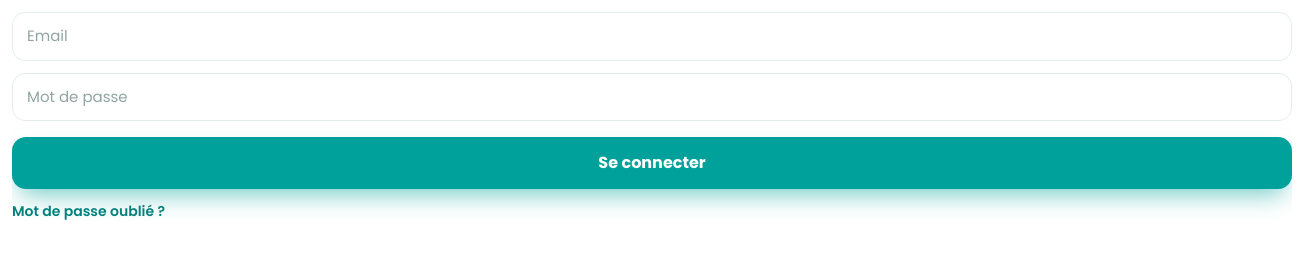
Test: LoginForm › 401 → « Email ou mot de passe incorrect. »
The image size is (1304, 269).
Type "a@b.c" into the field with placeholder "Email" at (652, 36), box [12,12,1292,60]
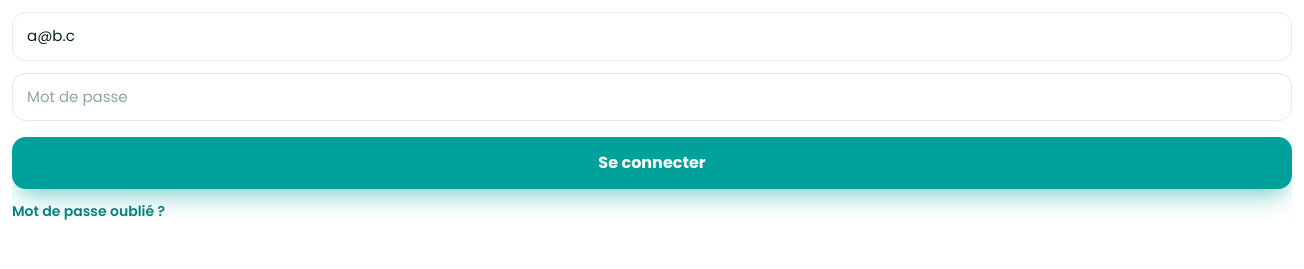
Type "Password1" into the password field with placeholder "Mot de passe" at (652, 97), box [12,72,1292,121]
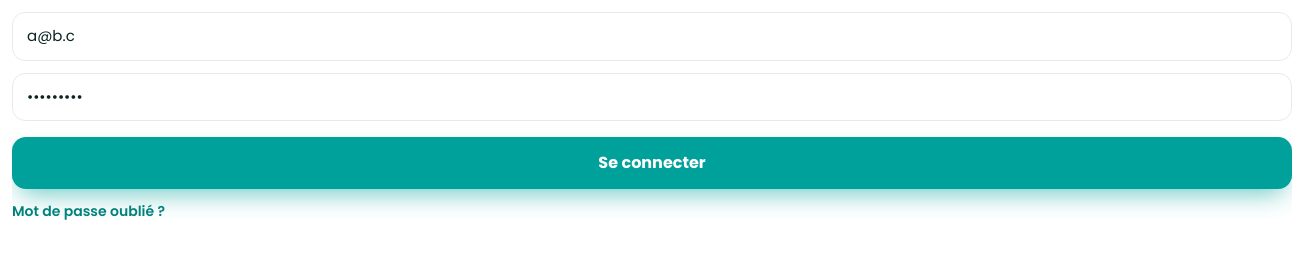
Click the button "Se connecter" at (652, 163), box [12,137,1292,189]
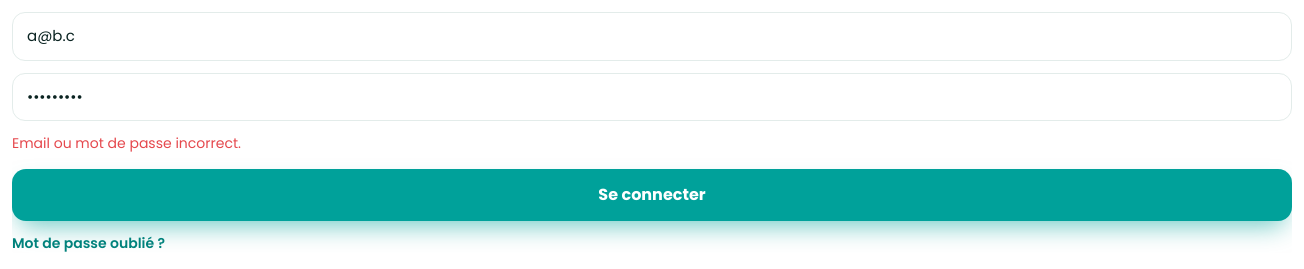
Check: the text "Email ou mot de passe incorrect." is shown, box [12,133,241,153]
